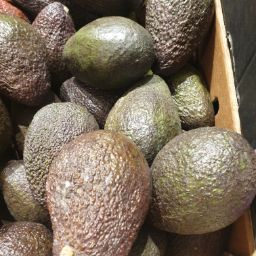Avocado: (25, 7, 218, 237), (39, 91, 250, 248), (20, 97, 158, 256), (3, 2, 202, 86), (143, 117, 256, 241), (85, 71, 218, 151), (2, 107, 61, 256), (1, 1, 66, 119), (54, 12, 157, 85)
